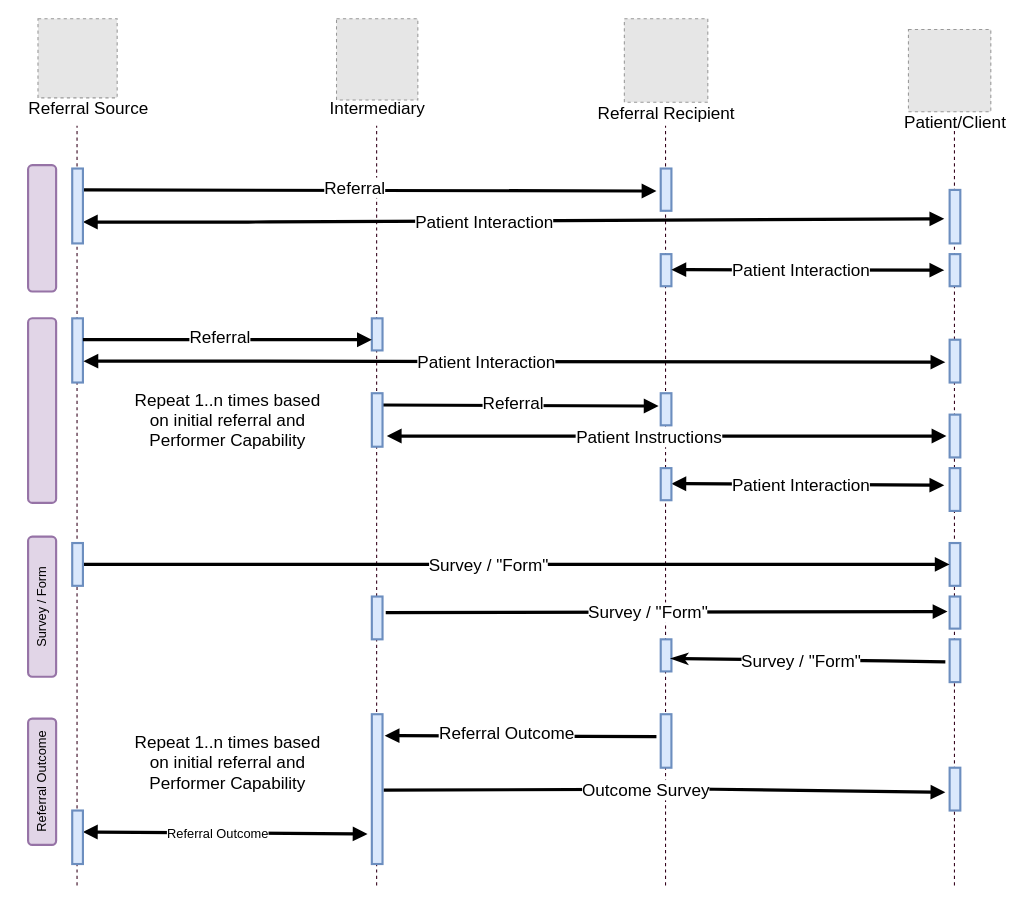
Some shapes in this 1031 by 905 pixel diagram are drawn without their labels. Grey dashed boxes stand in for pictures. The centre of each missing label's shape, as x and y in pixels:
Direct Referral: point (42, 228)
Referral via Intermediary: point (41, 410)
